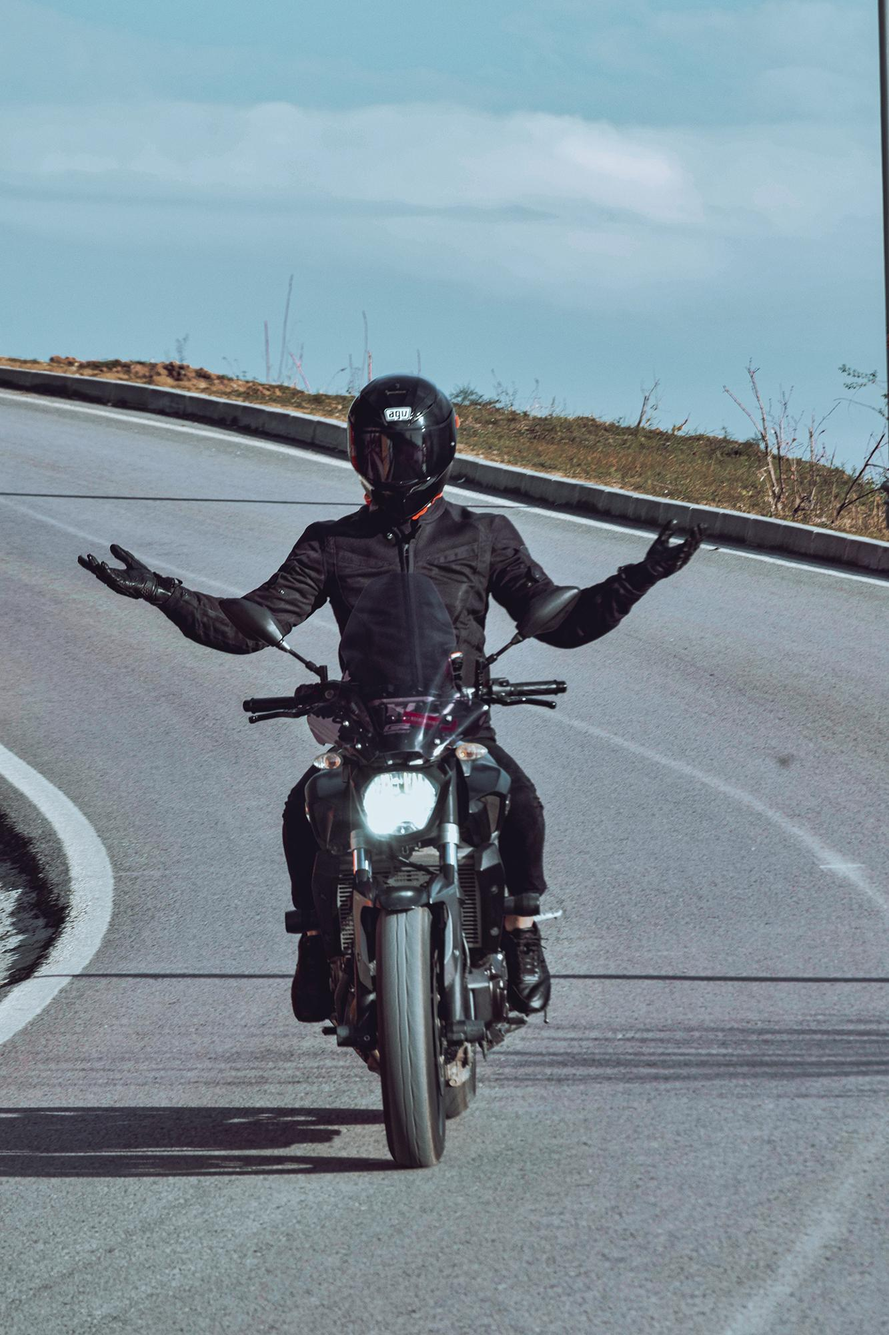helmet: (346, 371, 461, 522)
